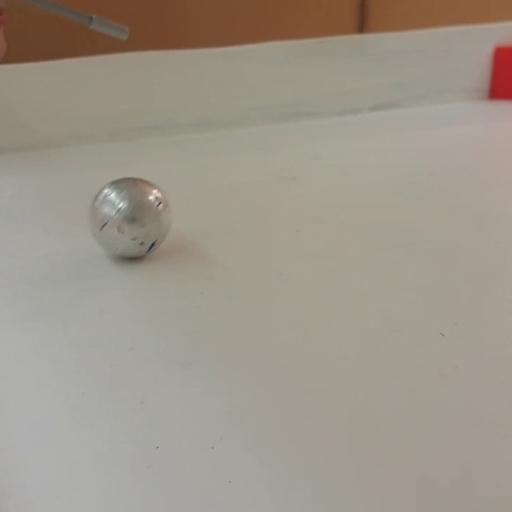alive: (87, 176, 174, 260)
